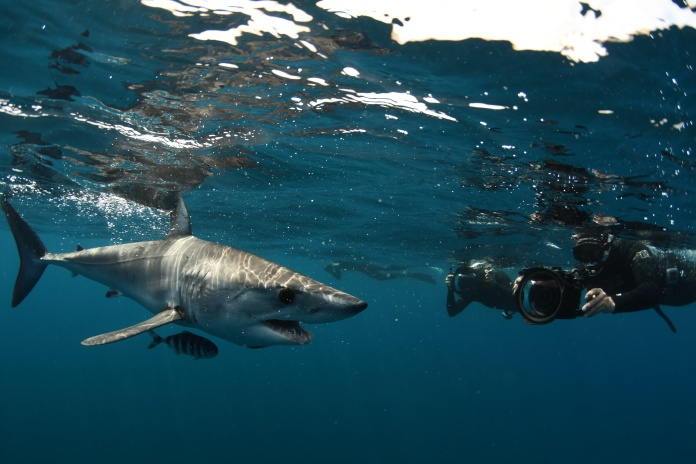Mako: (1, 184, 379, 374)
